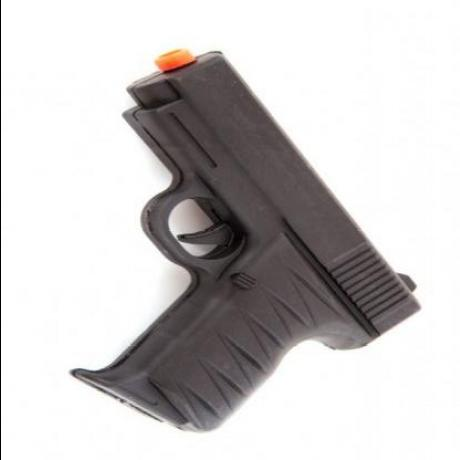weapon: (55, 44, 417, 432)
